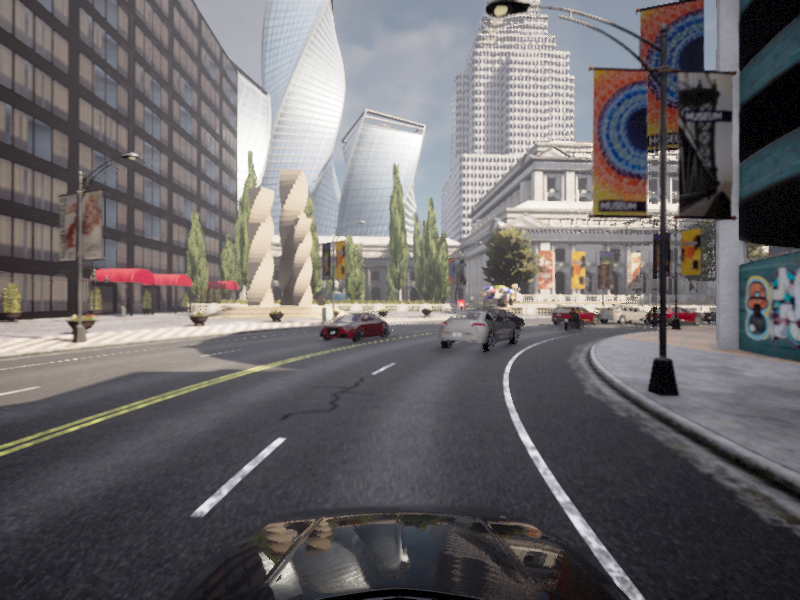vehicle: (432, 308, 521, 354), (314, 311, 393, 344), (465, 308, 528, 333), (699, 305, 771, 325), (642, 305, 706, 326), (546, 305, 603, 326), (594, 305, 654, 324), (647, 307, 712, 323), (560, 306, 587, 331)
